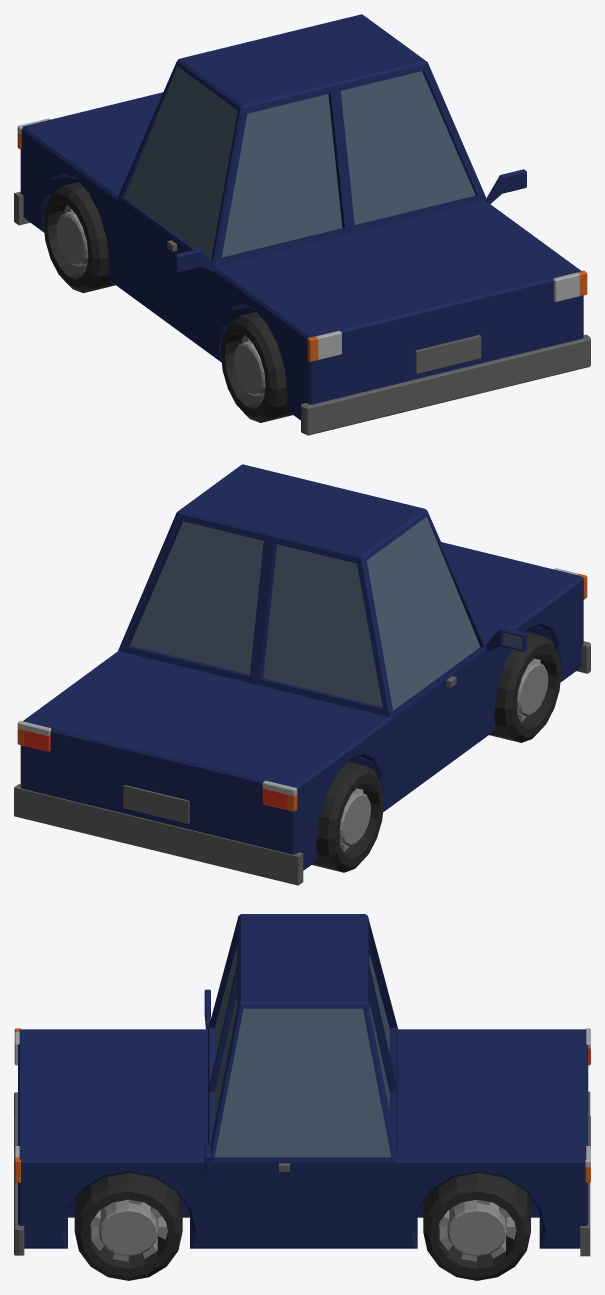
File: BlueCar.fbx
The picture shows the model from 3 angles, top to bottom: view 1: azimuth 30°, elevation 25°; view 2: azimuth 150°, elevation 25°; view 3: azimuth 270°, elevation 25°; orthographic projection.
Visible parts, largest first — view 1: Blue; view 2: Blue; view 3: Blue.
Part boxes in pixels (bbox=[...]): Blue: bbox=[14, 14, 590, 435]; Blue: bbox=[14, 464, 590, 885]; Blue: bbox=[14, 914, 590, 1280].
Bounding box in the file's own units: 221 × 157 × 321.
